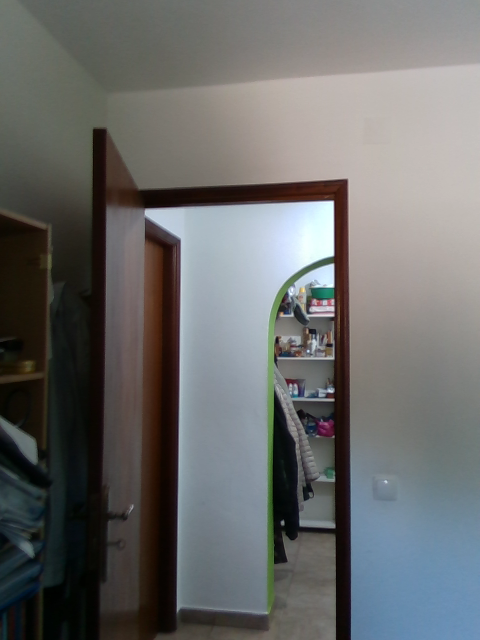open: (105, 130, 351, 634)
